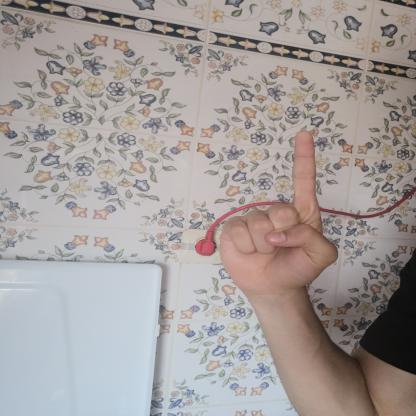BAA: (204, 124, 349, 300)
